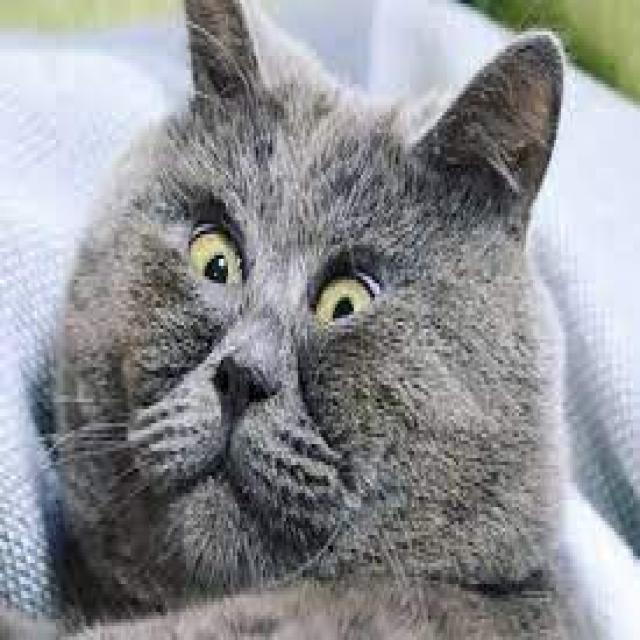Cat: (0, 0, 573, 640)
